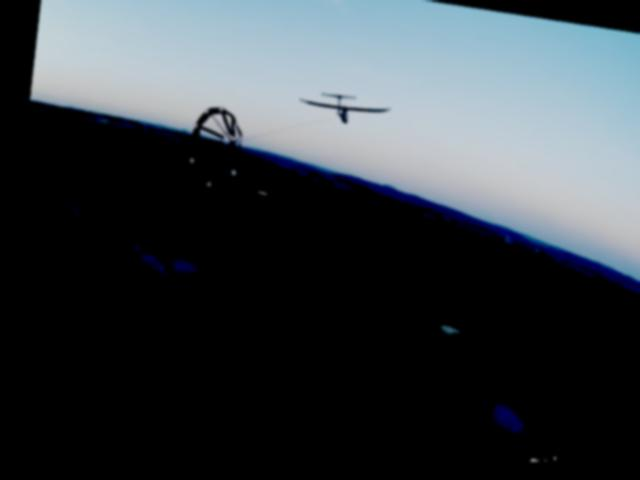uav: (292, 84, 391, 139)
